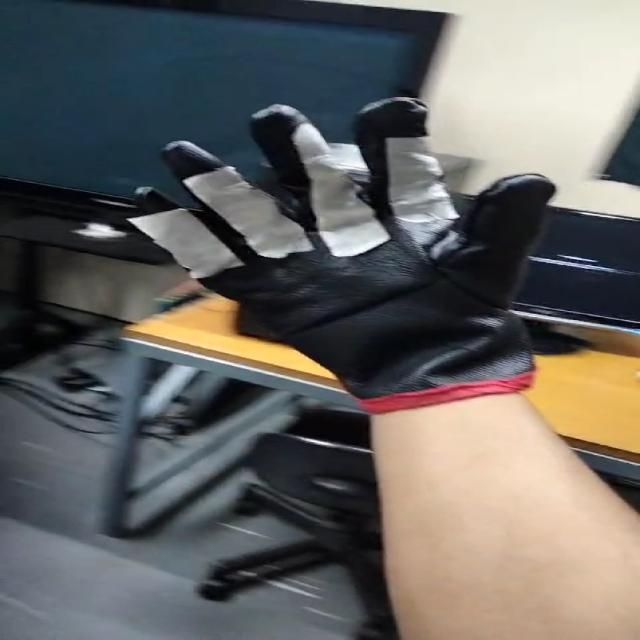Gloves: (120, 92, 549, 399)
